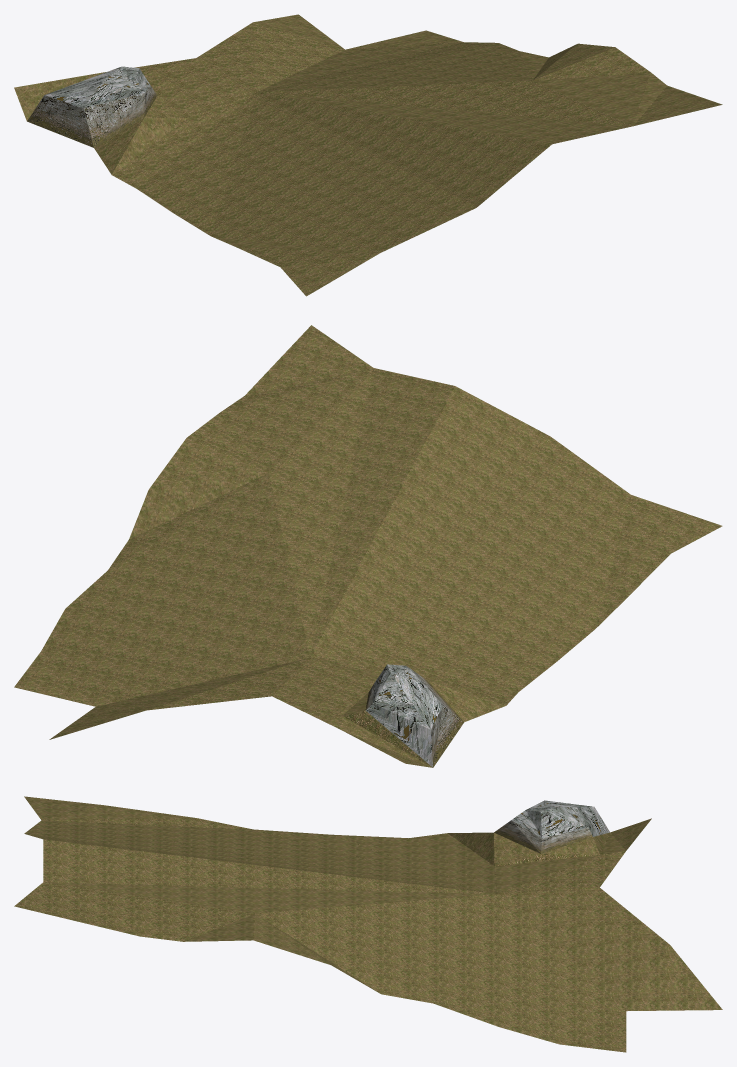
File: lodcunts14.obj
3 renders of one model, top to bottom at view 1: azimuth 30°, elevation 25°; view 2: azimuth 150°, elevation 25°; view 3: azimuth 270°, elevation 25°, orthographic. The views are drawn at different scales.
Parts seen in each view (by area): view 1: LODcunts14; view 2: LODcunts14; view 3: LODcunts14.
Boxes of the visible parts, x1,y1,x2,y2 form: LODcunts14: (14,14,722,296); LODcunts14: (14,325,722,767); LODcunts14: (14,796,722,1052).
Bounding box in the file's own units: 164 × 52.78 × 231.
3 materials, 3 textured.
